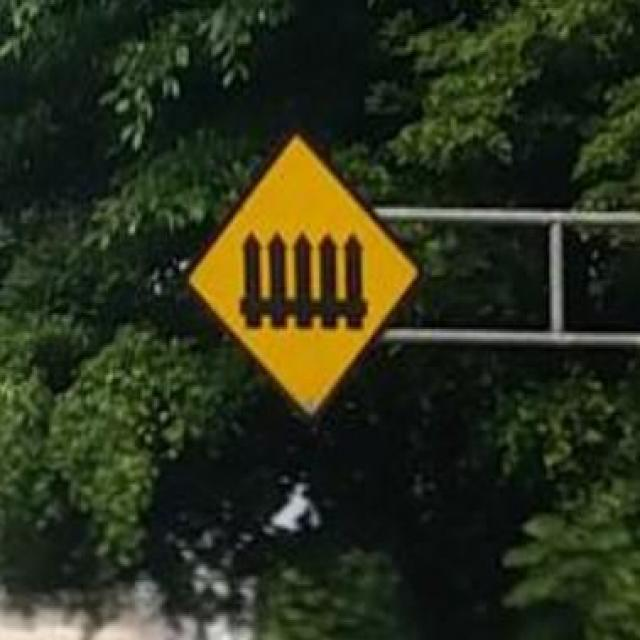traffic sign: (191, 124, 412, 409)
